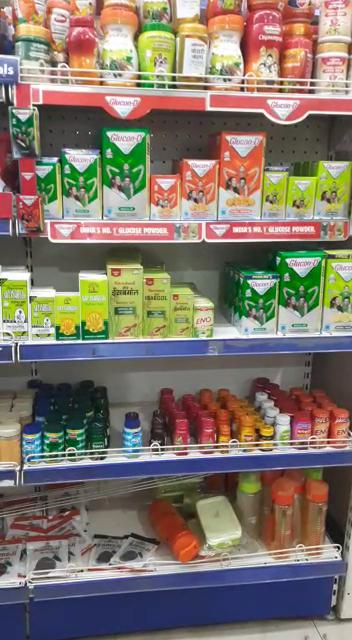Glucon D Nimbu Pani 1.KG: (321, 254, 352, 332), (317, 161, 351, 222)
Glucon D Regular 1.KG: (107, 134, 149, 214)
Glucon D Tangy orange 1.KG: (220, 134, 265, 224)
